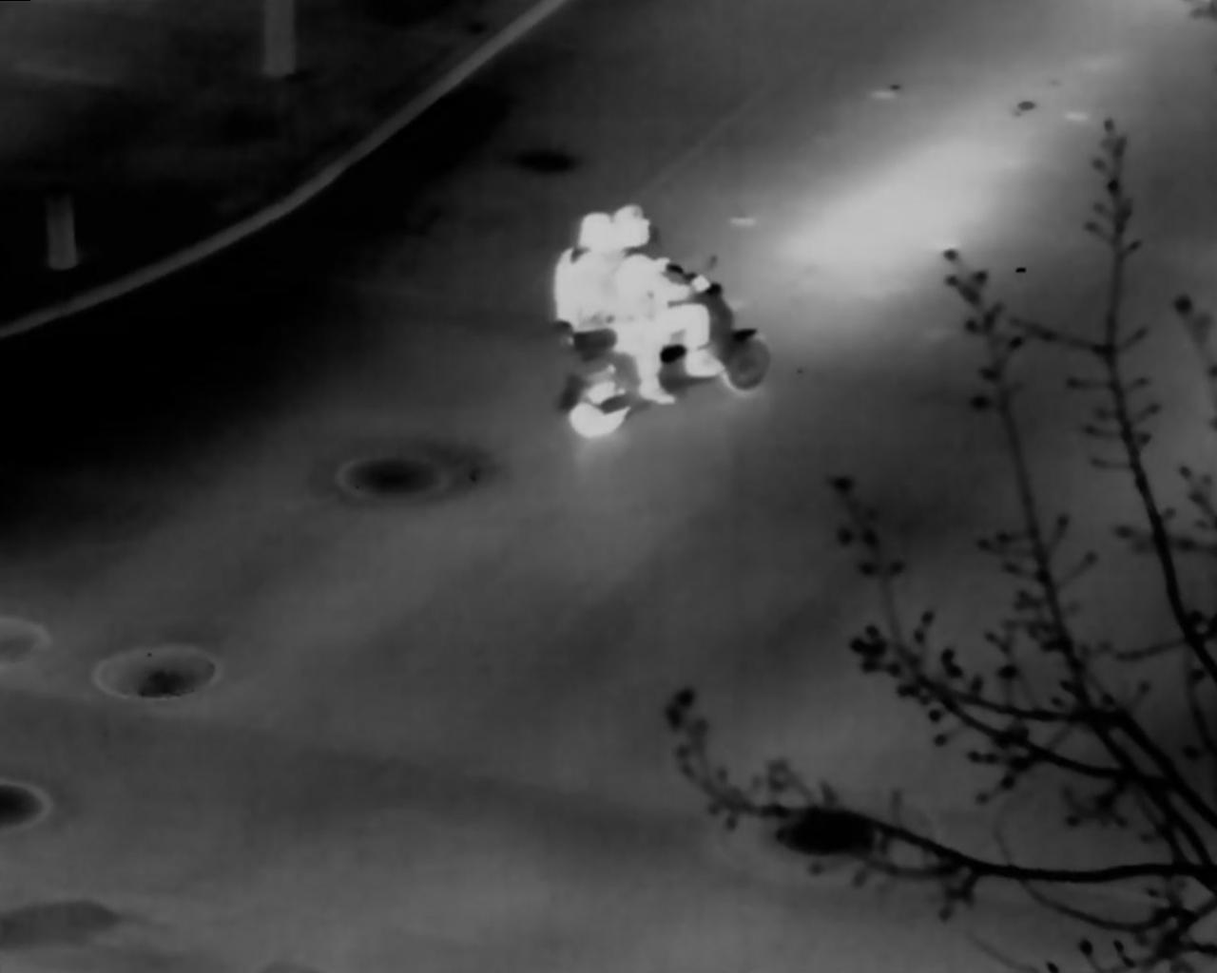person: (553, 211, 674, 405), (614, 200, 723, 376)
